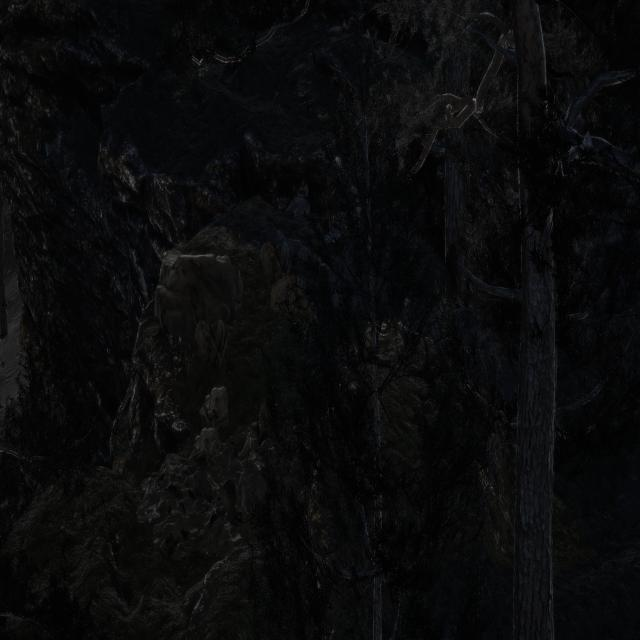Human: (214, 474, 246, 545)
